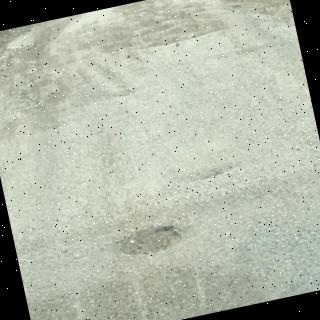pothole: (119, 224, 181, 256)
